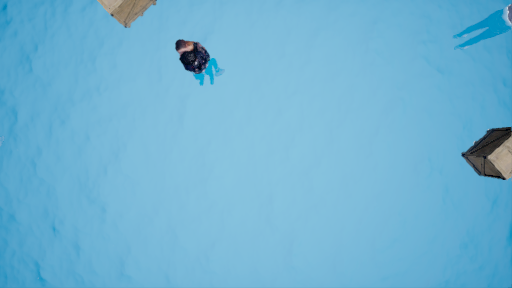person: (173, 39, 225, 86)
